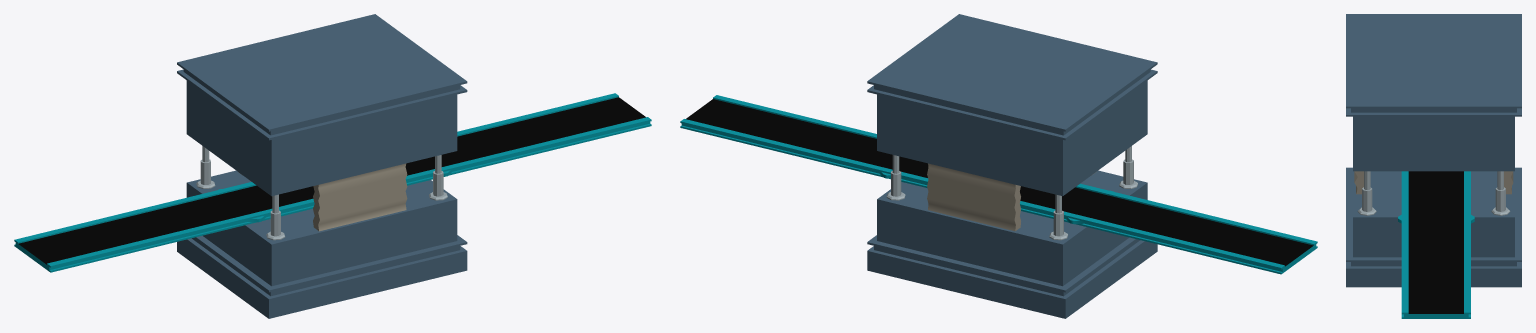
Rendered from engine2.fbx.
3 renders of one model, left to right at view 1: azimuth 30°, elevation 25°; view 2: azimuth 150°, elevation 25°; view 3: azimuth 270°, elevation 25°, orthographic. The views are drawn at different scales.
Visible parts, largest first — view 1: machine_8; view 2: machine_8; view 3: machine_8.
Part boxes in pixels (<box>): machine_8: <box>14,14,651,318</box>; machine_8: <box>680,14,1317,318</box>; machine_8: <box>1346,14,1521,318</box>.
Bounding box in the file's own units: 4782 × 1439 × 1268.
